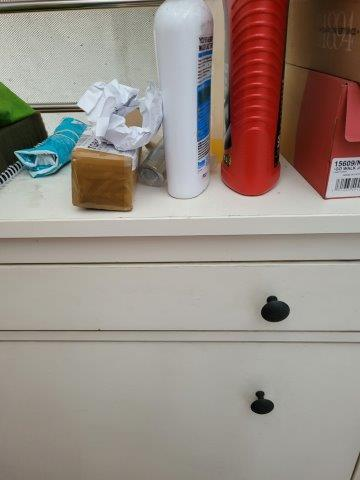kardus: (68, 150, 137, 211)
kertas: (80, 81, 162, 146)
